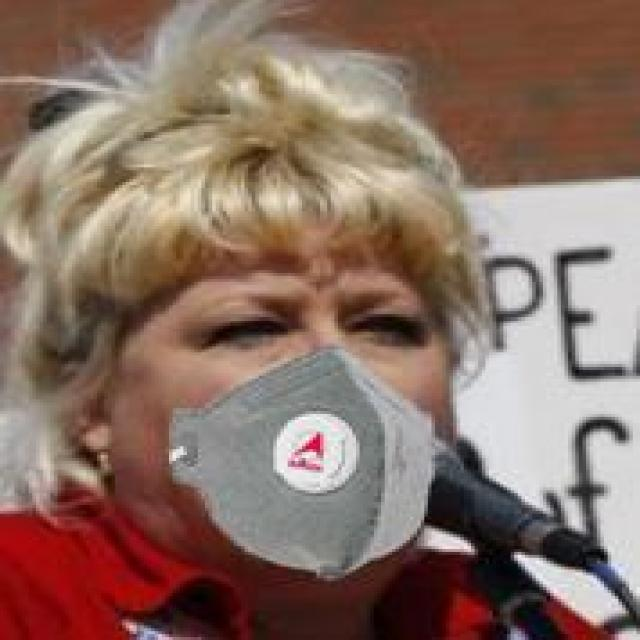mask: (65, 150, 518, 590)
